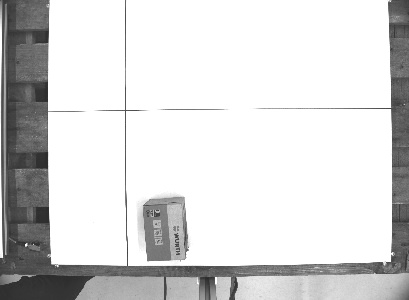b4: (140, 195, 190, 262)
